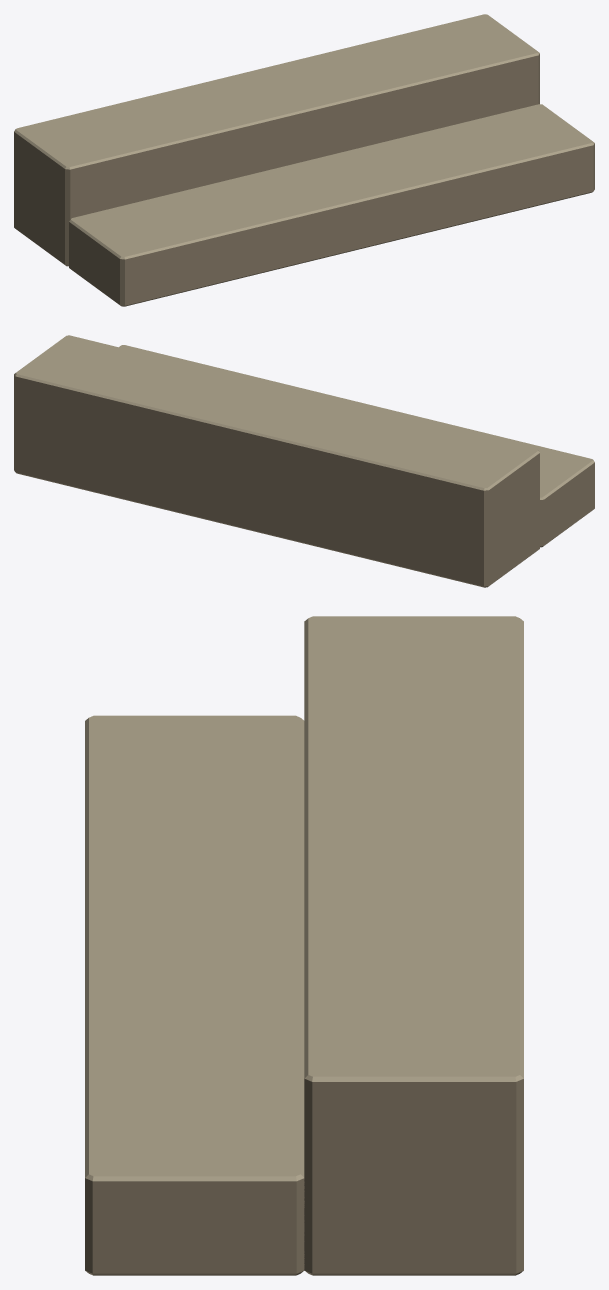
File: stair-short.glb
The picture shows the model from 3 angles, top to bottom: view 1: azimuth 30°, elevation 25°; view 2: azimuth 150°, elevation 25°; view 3: azimuth 270°, elevation 25°; orthographic projection. The views are drawn at different scales.
Visible parts, largest first — view 1: stair-short__body; view 2: stair-short__body; view 3: stair-short__body.
Boxes of the visible parts, <box> form: stair-short__body: <box>14,14,594,306</box>; stair-short__body: <box>14,335,594,587</box>; stair-short__body: <box>85,616,523,1275</box>.
Bounding box in the file's own units: 2 × 0.4 × 0.8.
